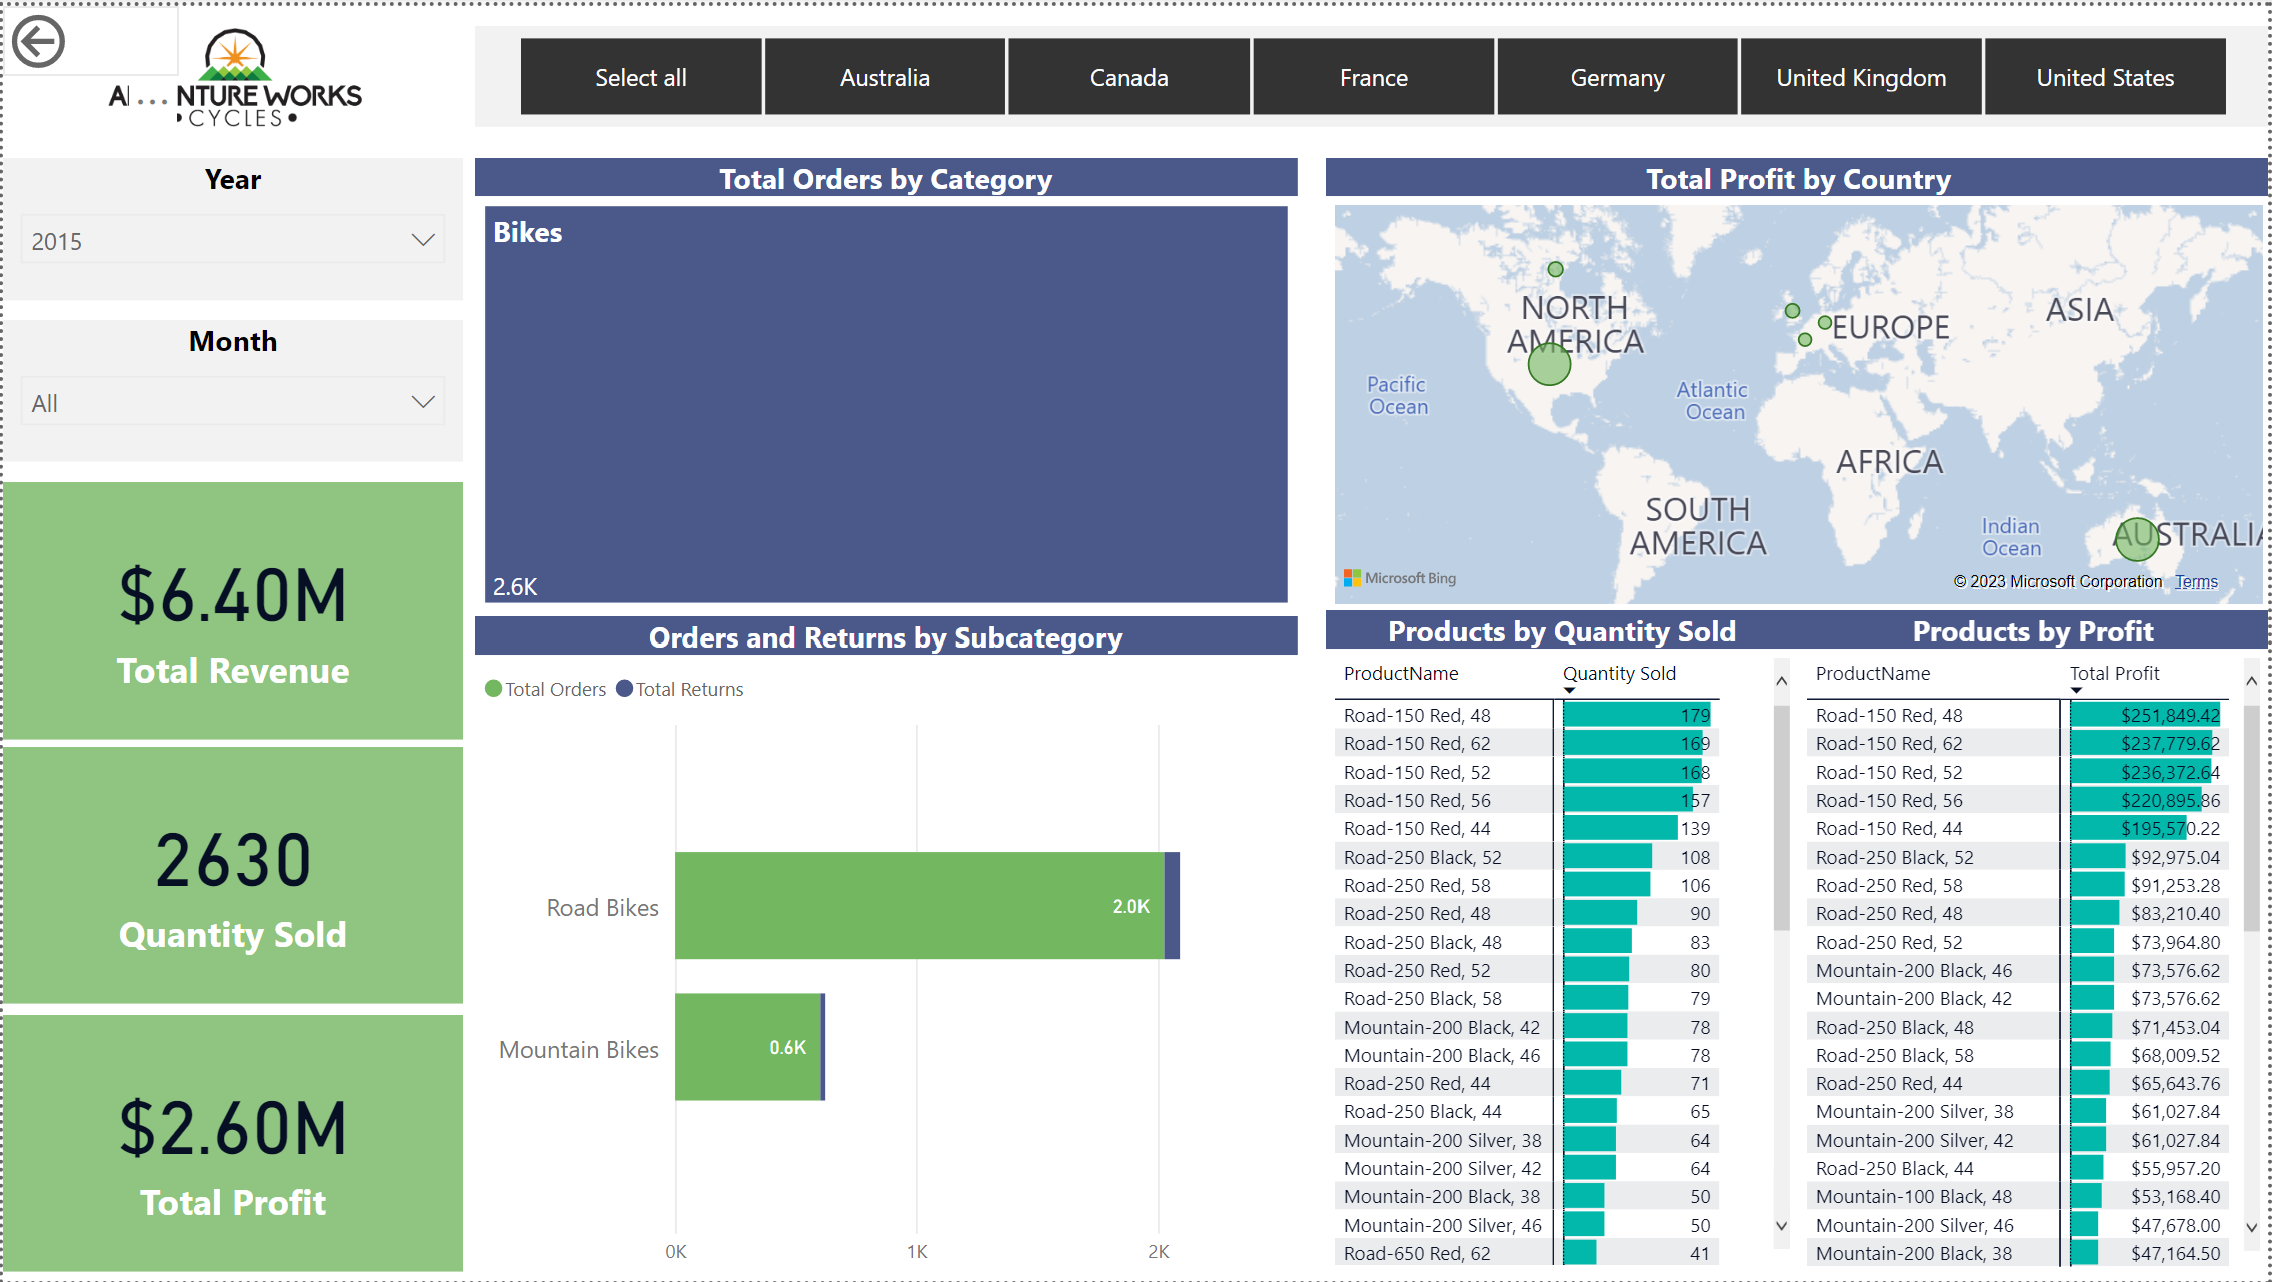

What the dashboard file says about the page in this screenshot:
{"tool":"powerbi","page":{"name":"Excutive Summary","canvas":[1280,720],"ordinal":0},"visuals":[{"type":"image","box":[0,2.9,261.8,74.2],"z":0},{"type":"treemap","title":"Total Orders by Category","fields":{"Group":["AW_Product_Category_Lookup.CategoryName"],"Values":["AW_Sales.Total Orders"]},"box":[267.1,85.7,464.3,257.1],"z":1000},{"type":"actionButton","box":[0,0,100,40],"z":2000},{"type":"card","fields":{"Values":["AW_Sales.Total Revenue"]},"box":[0,268.6,260,145],"z":3000},{"type":"card","fields":{"Values":["AW_Sales.Quantity Sold"]},"box":[0,418.6,260,145],"z":4000},{"type":"slicer","title":"Year","fields":{"Values":["AW_Calendar_Lookup.Year"]},"box":[0,85.7,260,80],"z":5000},{"type":"slicer","title":"Month","fields":{"Values":["AW_Calendar_Lookup.Month Name"]},"box":[0,177.1,260,80],"z":6000},{"type":"slicer","title":"Country","fields":{"Values":["AW_Territories_Lookup.Country"]},"box":[267.1,11.4,1012.9,57.1],"z":7000},{"type":"card","fields":{"Values":["AW_Sales.Total Profit"]},"box":[0,570,260,145],"z":8000},{"type":"barChart","title":"Orders and Returns by Subcategory","fields":{"Y":["AW_Sales.Total Orders","AW_Returns.Total Returns"],"Category":["AW_Product_Subcategory_Lookup.SubcategoryName"]},"box":[267.1,344.3,464.3,375.7],"z":9000},{"type":"map","title":"Total Profit by Country","fields":{"Category":["AW_Territories_Lookup.Country"],"Size":["AW_Sales.Total Profit"]},"box":[747.1,85.7,534.3,257.1],"z":10000},{"type":"pivotTable","title":"Products by Quantity Sold","fields":{"Rows":["AW_Product_Lookup.ProductName"],"Values":["AW_Sales.Quantity Sold"]},"box":[747.1,341.4,267.1,374.3],"z":11000},{"type":"pivotTable","title":"Products by Profit","fields":{"Rows":["AW_Product_Lookup.ProductName"],"Values":["AW_Sales.Total Profit"]},"box":[1014,341.3,266,375.5],"z":12000}]}

Visuals, with their boxes on the page's 1280x720 design canvas (x1, y1, x2, y2). These are canvas units, not pixel positions in the 2272x1282 screenshot, which may show the page scaled, cropped or inside an application window:
image: 0, 3, 262, 77
"Total Orders by Category" treemap: 267, 86, 731, 343
actionButton: 0, 0, 100, 40
card - AW_Sales.Total Revenue: 0, 269, 260, 414
card - AW_Sales.Quantity Sold: 0, 419, 260, 564
"Year" slicer: 0, 86, 260, 166
"Month" slicer: 0, 177, 260, 257
"Country" slicer: 267, 11, 1280, 68
card - AW_Sales.Total Profit: 0, 570, 260, 715
"Orders and Returns by Subcategory" barChart: 267, 344, 731, 720
"Total Profit by Country" map: 747, 86, 1281, 343
"Products by Quantity Sold" pivotTable: 747, 341, 1014, 716
"Products by Profit" pivotTable: 1014, 341, 1280, 717
